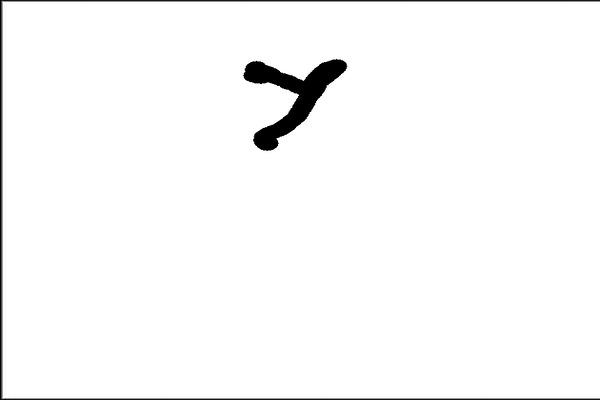Y: (224, 46, 358, 158)
